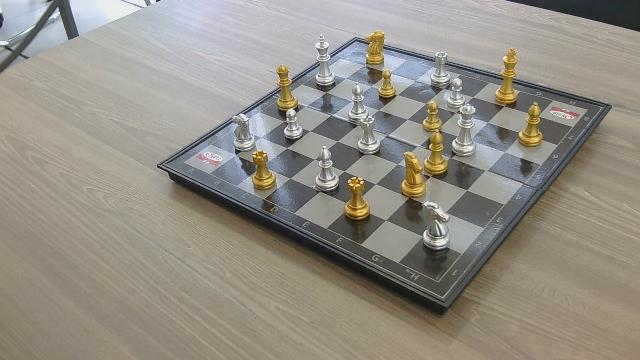black_bishop: (518, 101, 544, 147), (425, 130, 450, 177)
black_king: (493, 45, 518, 104)
black_knight: (401, 150, 429, 200), (364, 31, 387, 66)
black_pawn: (423, 100, 443, 132), (377, 69, 397, 99)
black_queen: (274, 64, 299, 110)
black_rook: (343, 176, 373, 222), (251, 150, 277, 191)
white_bishop: (315, 147, 338, 192), (349, 82, 367, 122)
white_king: (313, 35, 335, 86)
white_knight: (420, 200, 454, 252), (233, 112, 256, 152)
white_pawn: (283, 107, 302, 140), (447, 76, 465, 108)
white_queen: (455, 104, 476, 155)
white_rook: (357, 113, 381, 155), (431, 51, 451, 87)
